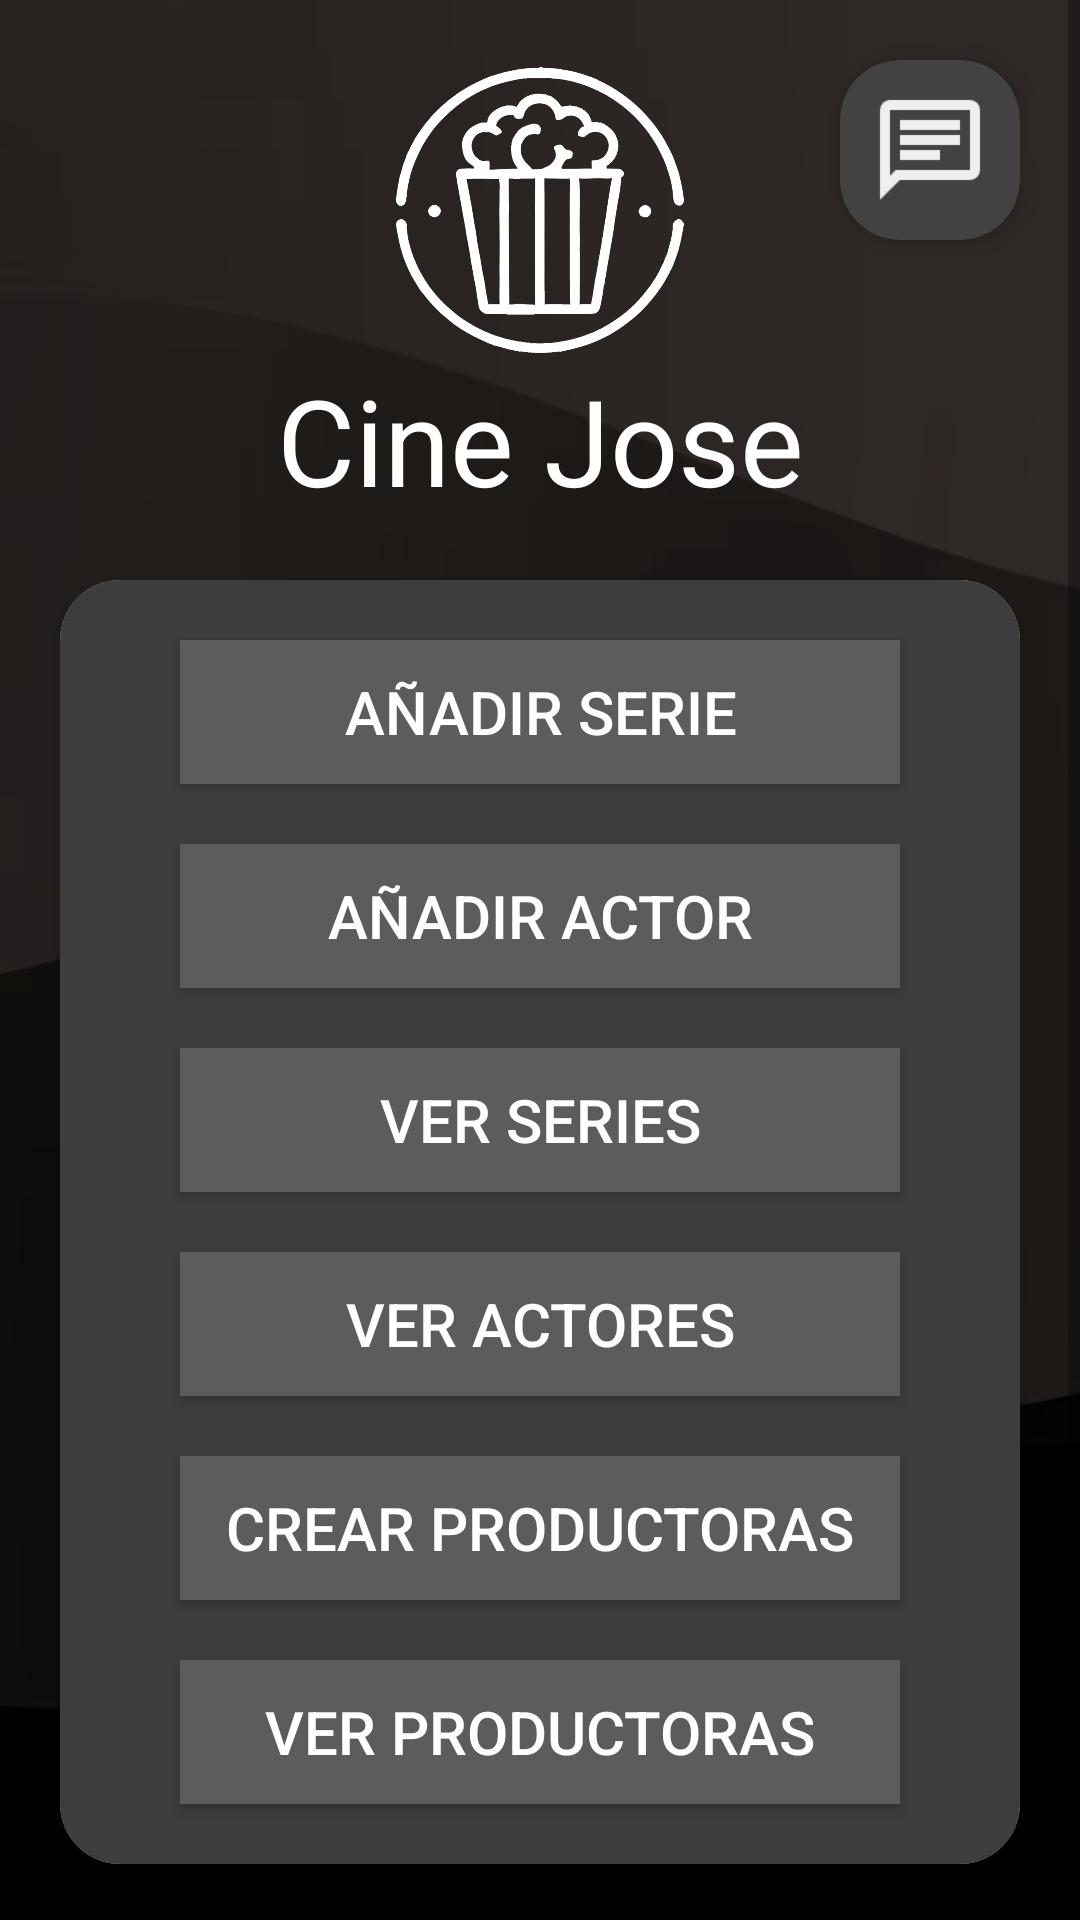

Icons on this 1080 × 1920 Android screen, each with its box as BBox(x1, y1, x2, y2):
chaticon: BBox(880, 100, 980, 200)
